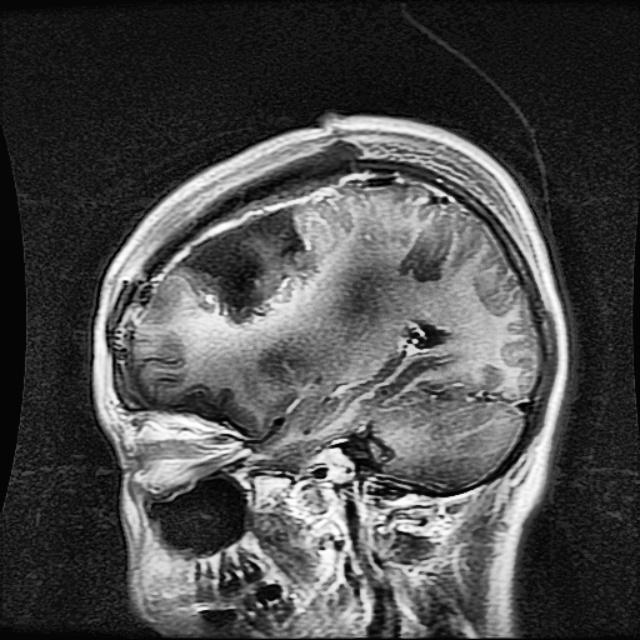Meningioma: (174, 210, 314, 328)
